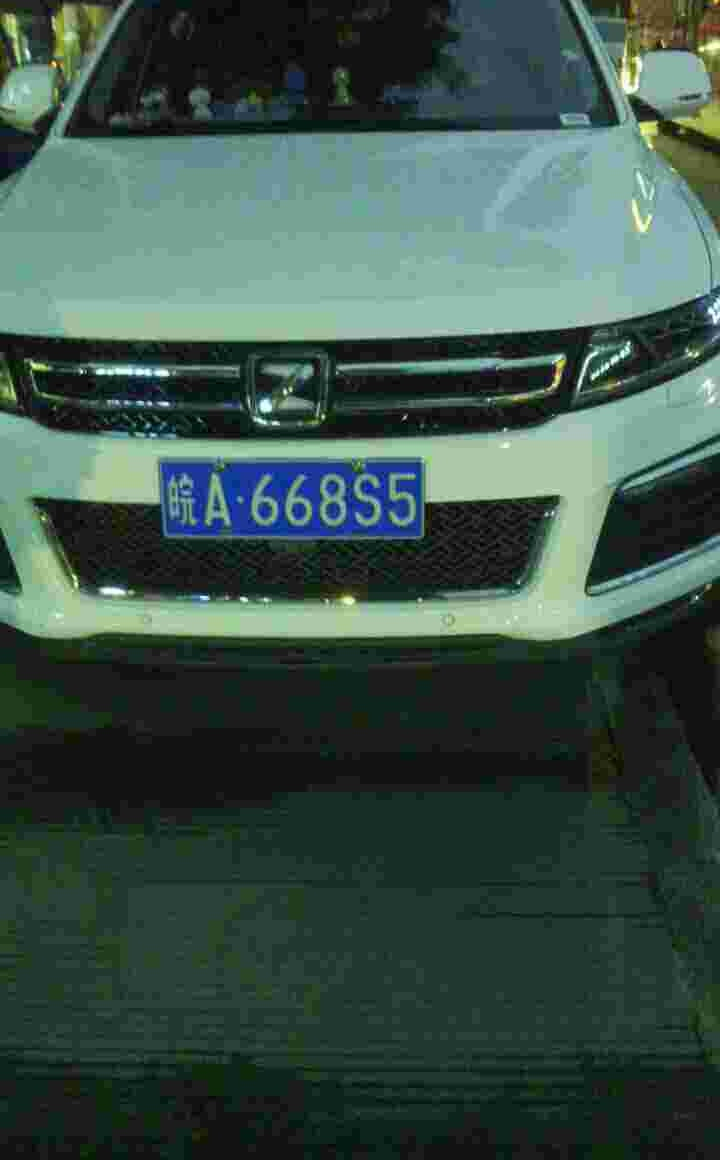car: (153, 462, 432, 541)
